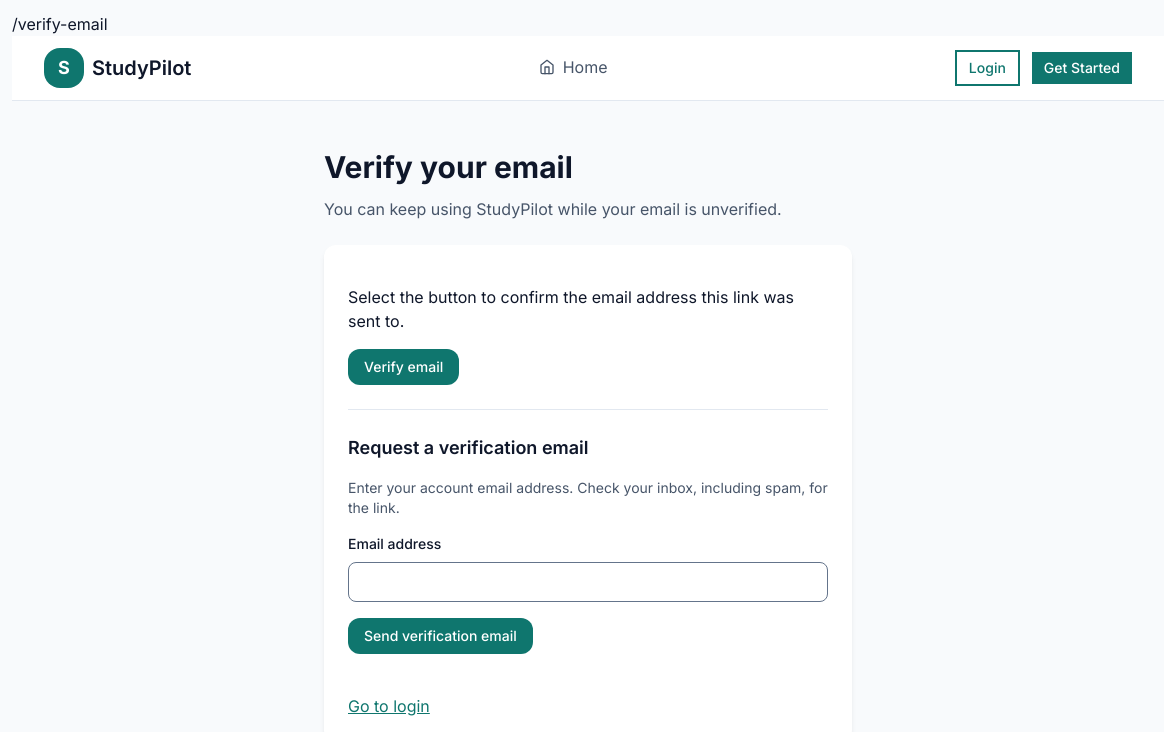
Test: VerifyEmailPage › is reachable while signed in=false and requires an explicit Verify email action
Click the button "Verify email" at (404, 367), box [348,349,459,385]
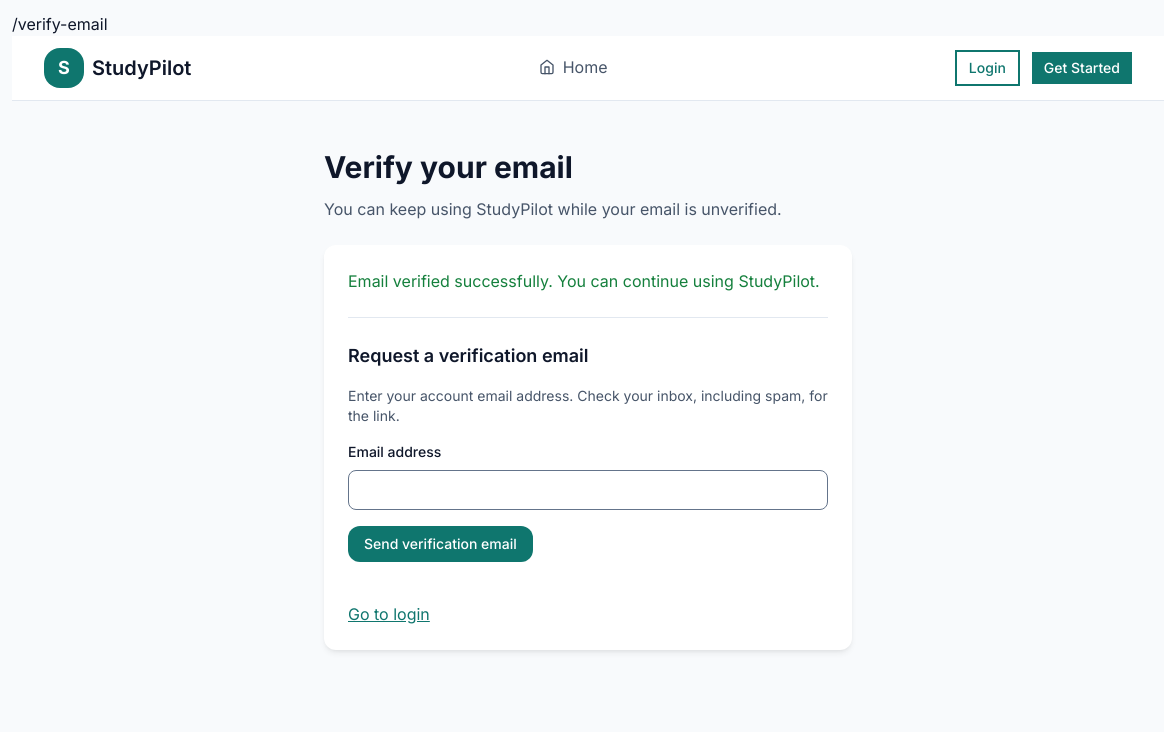
expect the text "Email verified successfully" is shown: met, box [348,271,820,291]
